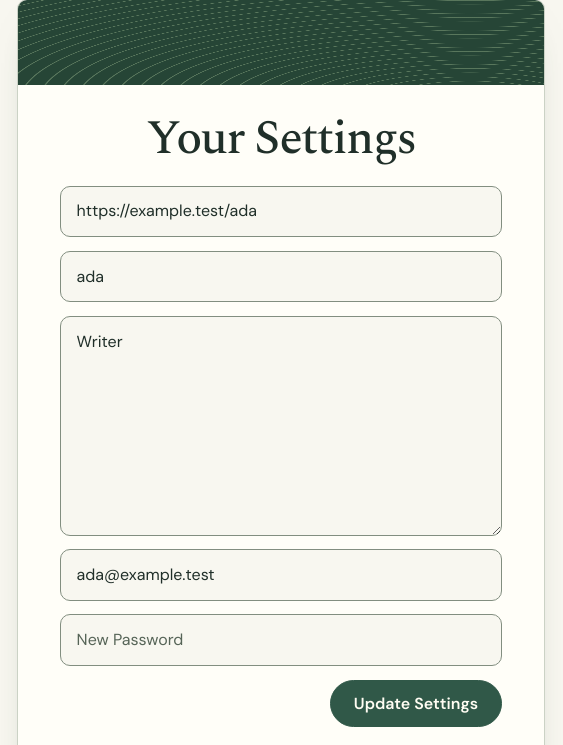
Test case: account forms › retains the settings form and displays HTTP 401 errors
The width and height of the screenshot is (563, 745).
Replace the text in the field named "Email" with "change@example.test" at (281, 575), box [60,549,502,601]
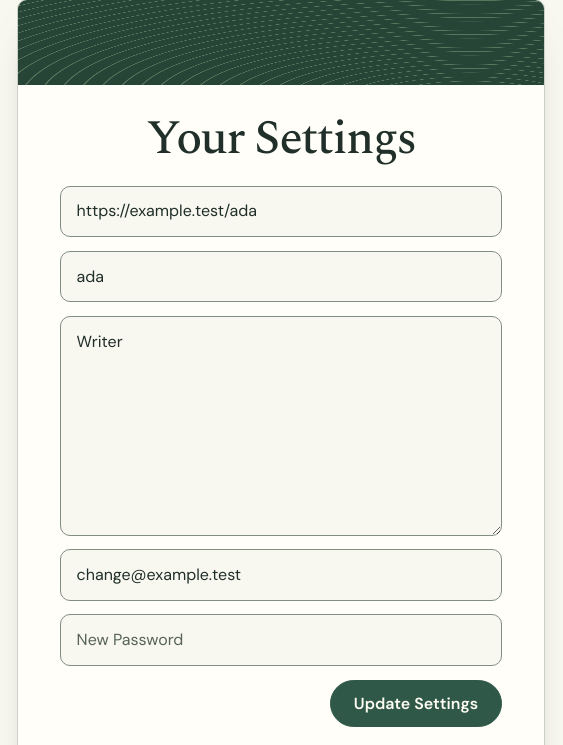
Click the button "Update Settings" at (416, 703), box [330,680,502,727]
(page scrolled)
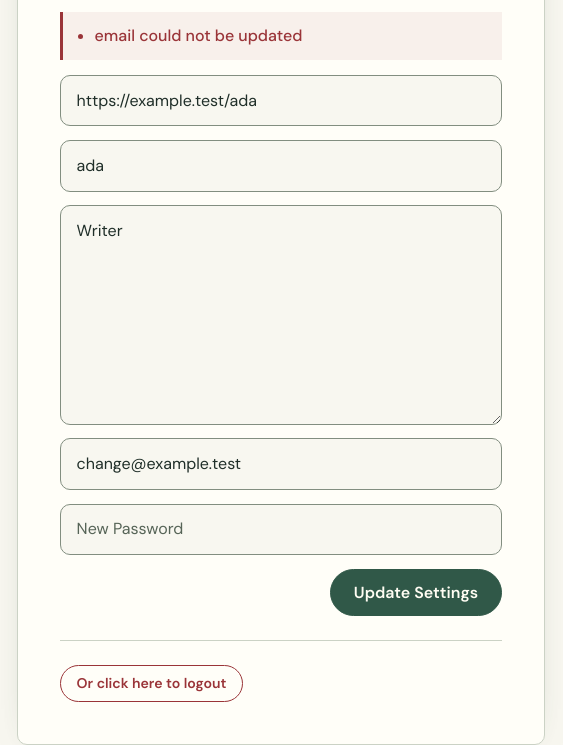
Check: the button "Update Settings" is enabled, box [330,569,502,616]
Check: the message shows "could not be updated", box [95,25,302,46]
